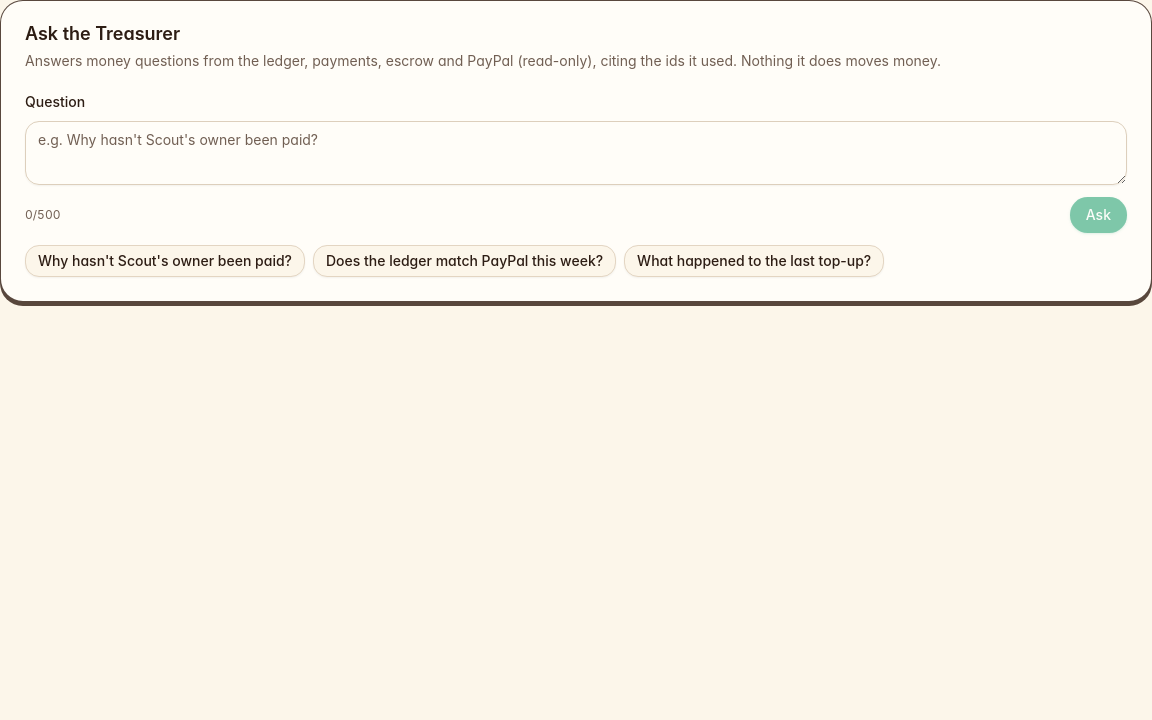
TreasurerPanel › asks the typed question, marks the fallback report and shows errors
Expected: the button "Ask" is disabled, [1070,197,1127,233]
Type "Where did tup_1 go?" into the text box labelled "Question".
click(576, 153); type("Where did tup_1 go?")  # box [25,121,1127,185]
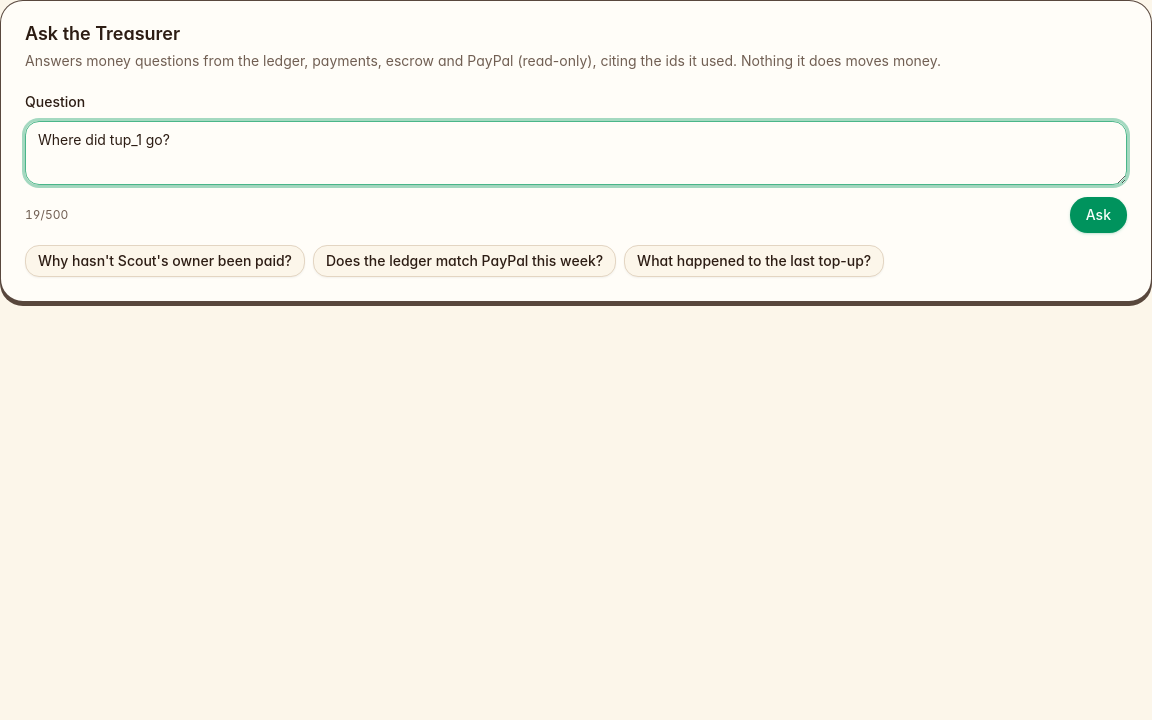
Click the button "Ask".
click(1098, 215)  # box [1070,197,1127,233]
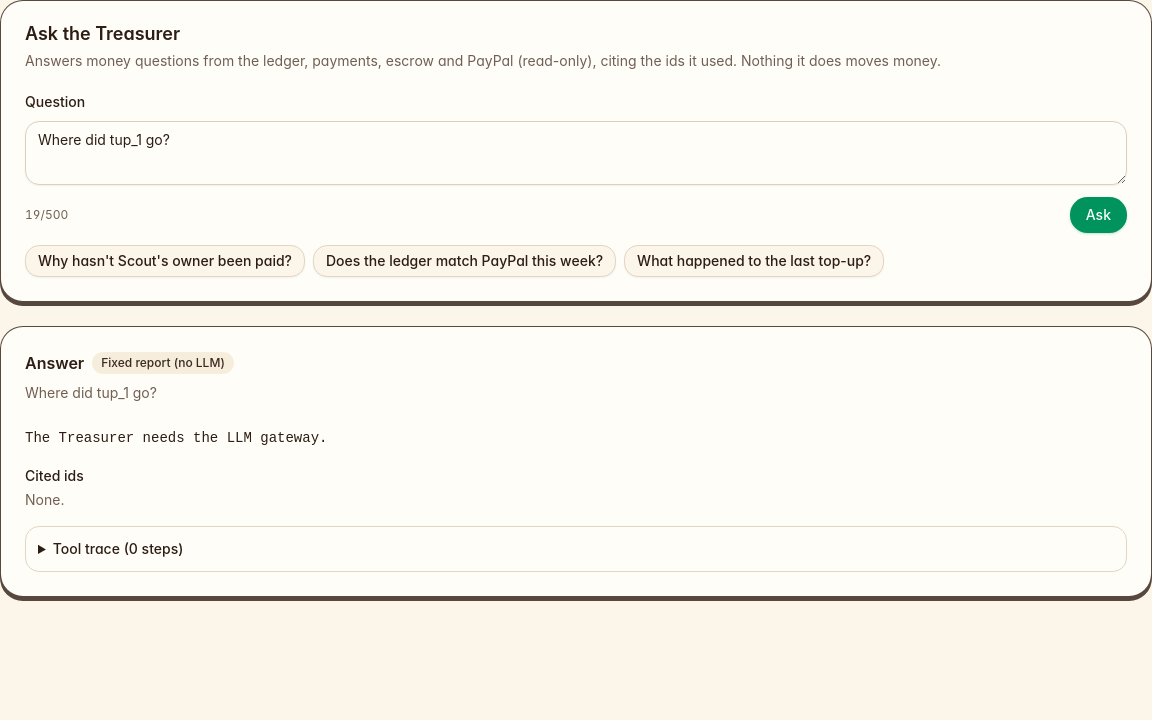
Expected: the text "Fixed report (no LLM)" is shown, [92,352,234,374]
Expected: the text "None." is shown, [25,491,64,508]
Click the button "Ask".
click(1098, 215)  # box [1070,197,1127,233]
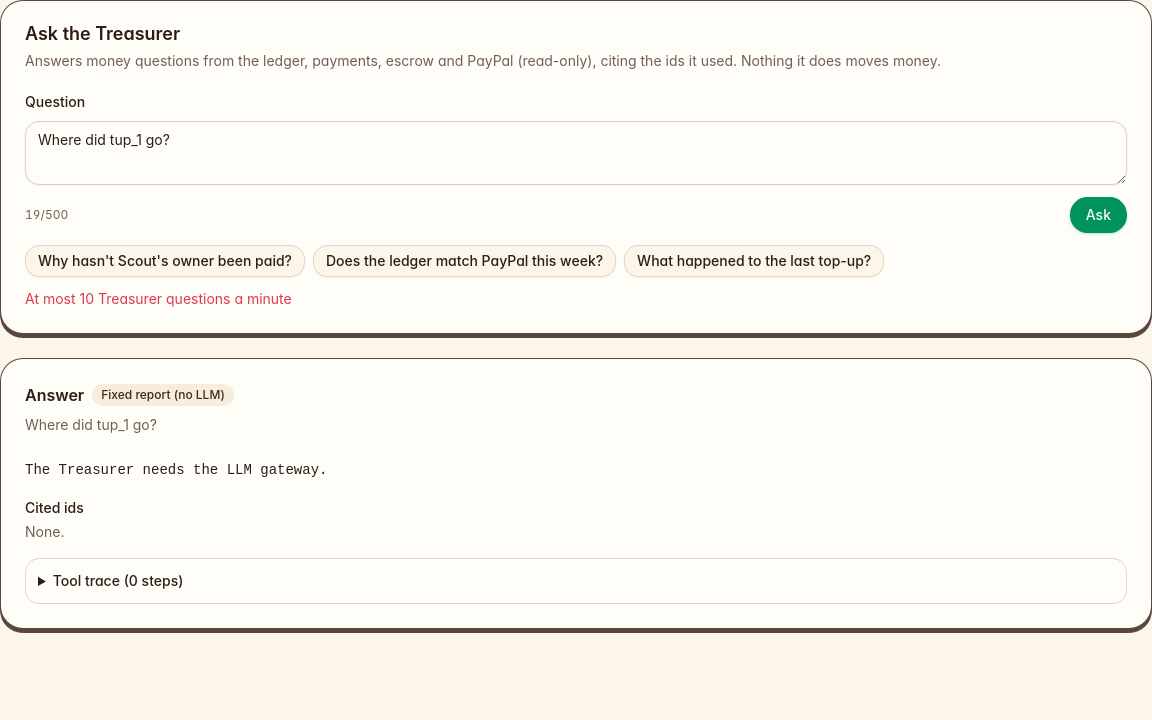
Expected: the message reads "At most 10 Treasurer questions a minute", [25,290,292,307]
